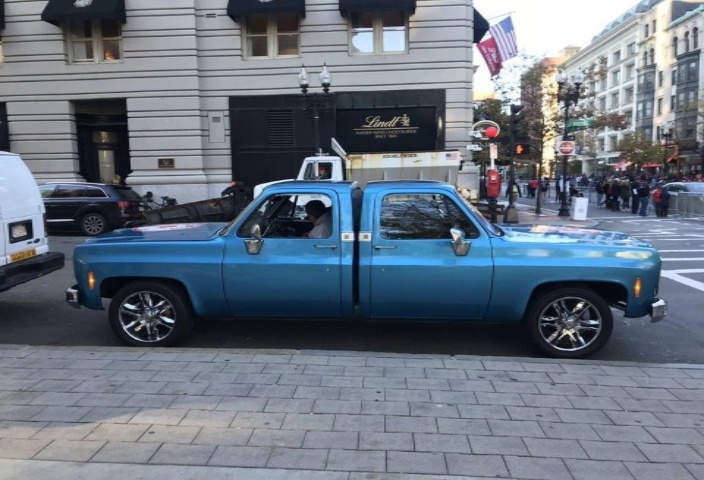camper: (342, 185, 668, 353), (74, 155, 359, 330)
